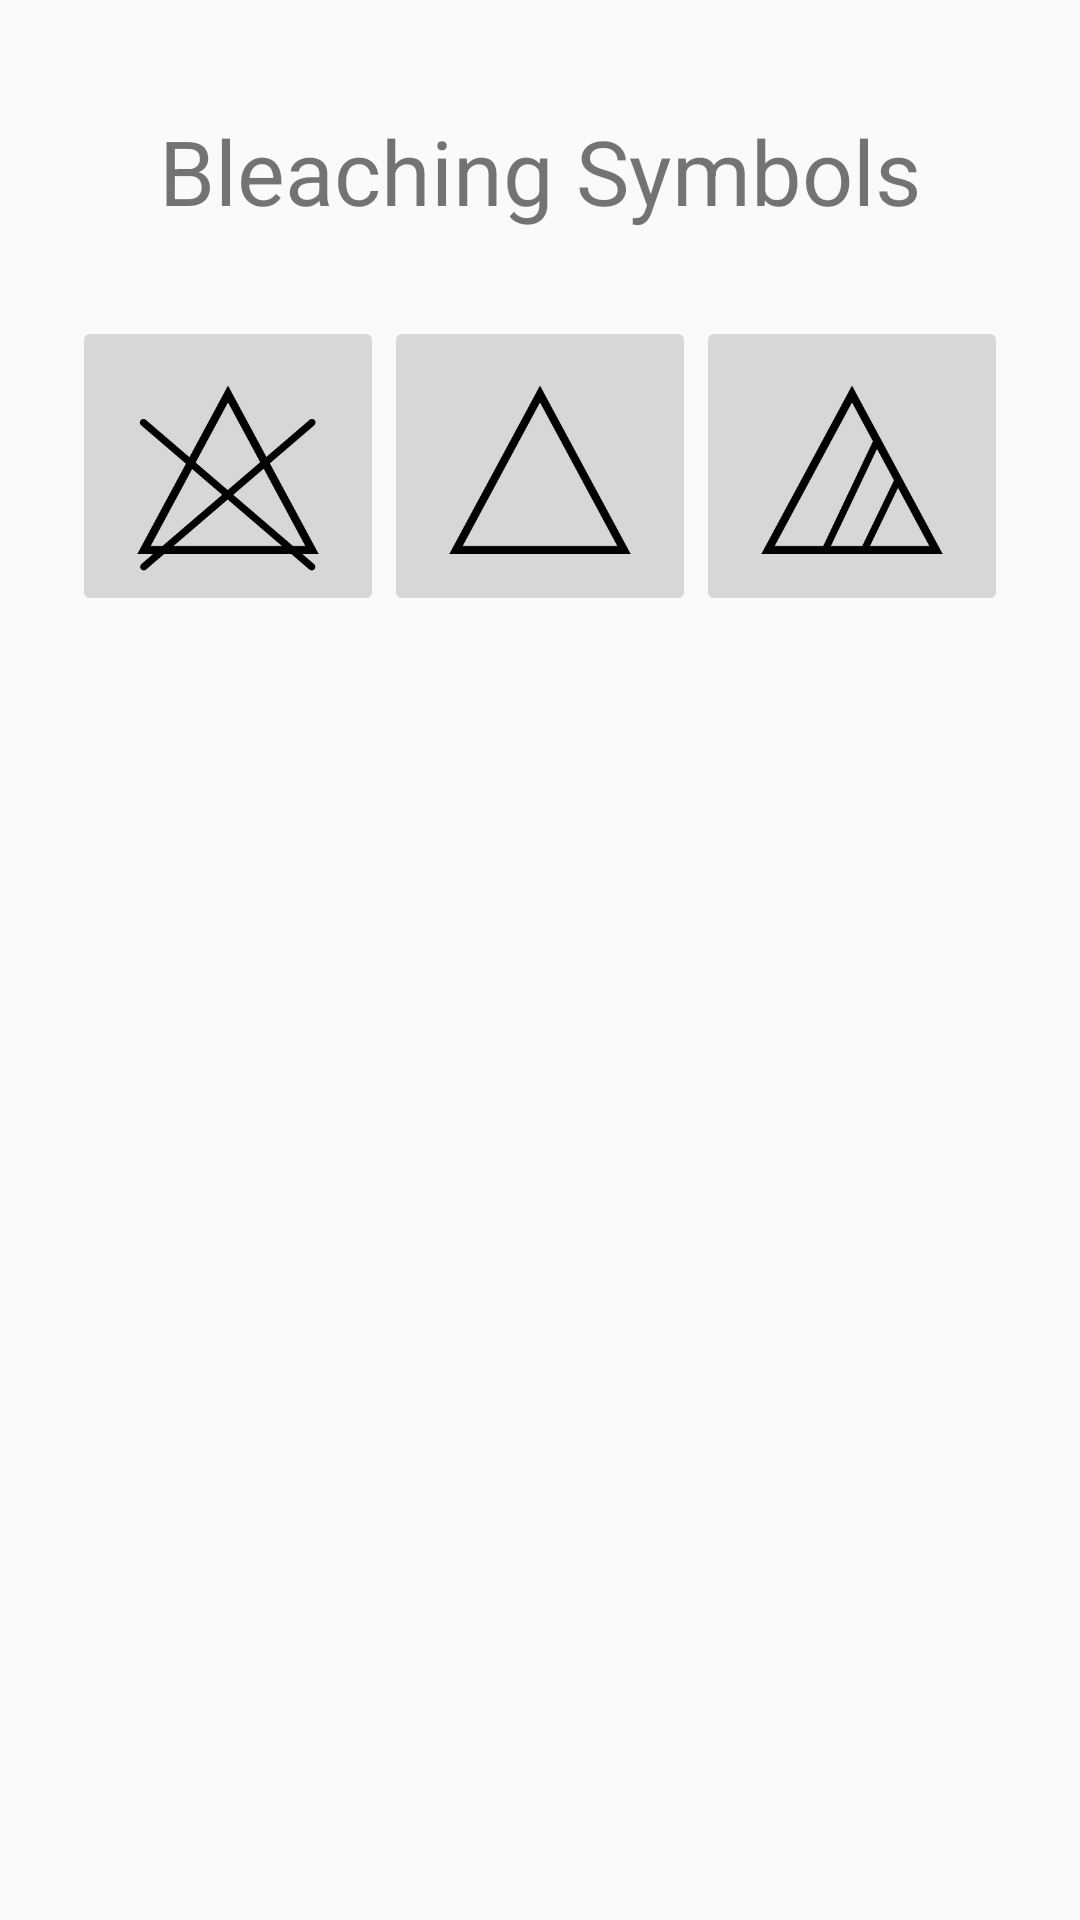

Named icons in this screenshot (1080px x 1920px) and their bounding boxes, (x1, y1, x2, y2):
Bleach Non Chlorine: (708, 334, 996, 598)
Bleaching Allowed: (396, 334, 684, 598)
Do Not Bleach: (84, 334, 372, 598)
